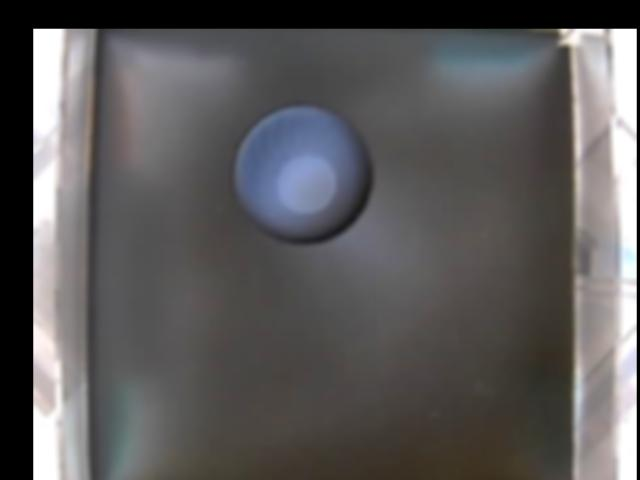Cup: (234, 103, 372, 242)
